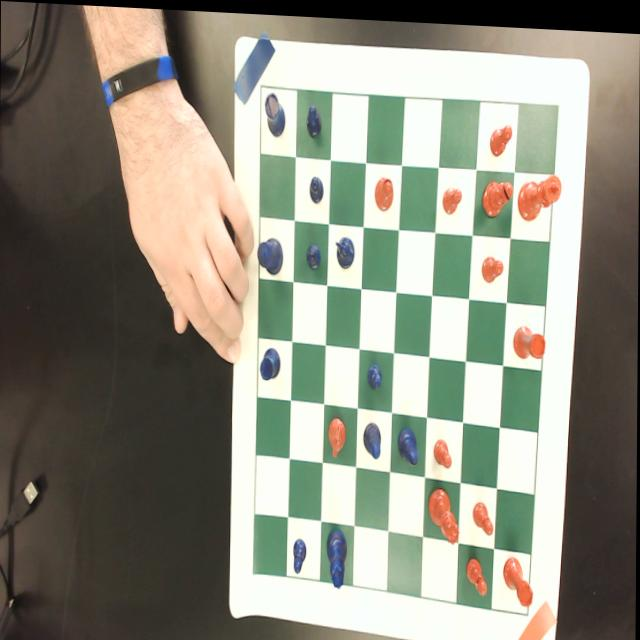B: (397, 421, 419, 460), (363, 416, 381, 455)
K: (256, 232, 283, 272)
N: (335, 232, 355, 265)
P: (306, 101, 321, 135), (292, 535, 306, 571), (308, 172, 323, 201), (306, 238, 321, 267), (366, 359, 382, 385)
Q: (326, 524, 348, 585)
R: (264, 89, 285, 135), (259, 344, 280, 378)
b: (482, 170, 513, 213), (374, 172, 393, 207)
k: (517, 167, 561, 216)
n: (327, 412, 347, 453)
p: (465, 551, 487, 591), (472, 495, 494, 531), (489, 117, 511, 152), (441, 179, 462, 210), (481, 249, 503, 278), (433, 433, 452, 465)
q: (428, 482, 459, 537)
r: (503, 551, 536, 602), (511, 317, 547, 355)
